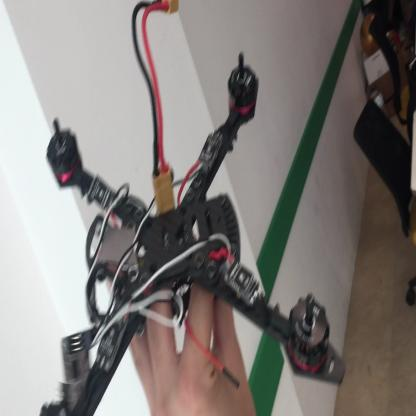drone: (33, 64, 350, 416)
